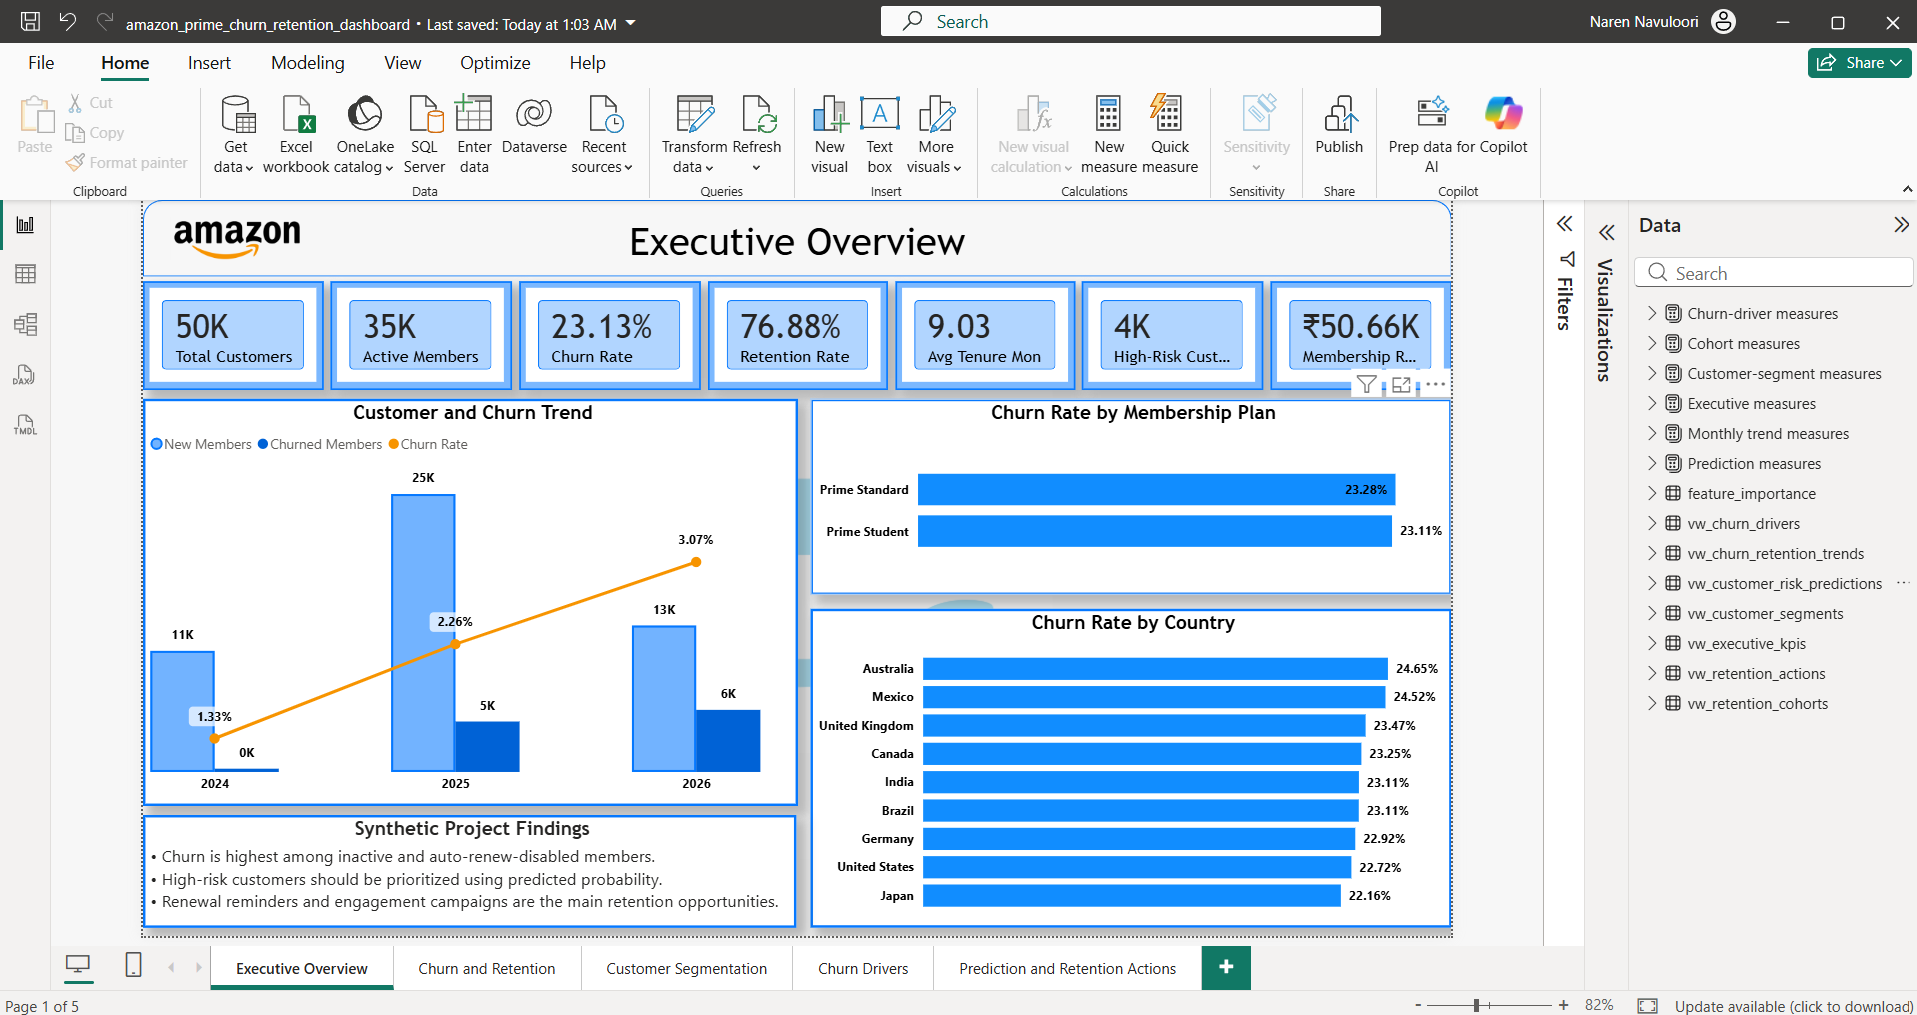

What the dashboard file says about the page in this screenshot:
{"tool":"powerbi","page":{"name":"Executive Overview","canvas":[1280,720],"ordinal":0},"visuals":[{"type":"shape","box":[0,0,1280.2,74.9],"z":0},{"type":"image","box":[11,17.1,160.2,41.6],"z":1000},{"type":"cardVisual","fields":{"Data":["Executive measures.Total Customers"]},"box":[0,79.5,177,106.4],"z":2000},{"type":"cardVisual","fields":{"Data":["Executive measures.Active Members"]},"box":[184,79.5,177.3,106.4],"z":3000},{"type":"cardVisual","fields":{"Data":["Executive measures.Churn Rate"]},"box":[368.3,79.5,177.3,106.4],"z":4000},{"type":"cardVisual","fields":{"Data":["Executive measures.Retention Rate"]},"box":[552.6,79.5,176.1,106.4],"z":5000},{"type":"cardVisual","fields":{"Data":["Executive measures.Average Tenure Months"]},"box":[735.6,79.5,176.1,106.4],"z":6000},{"type":"cardVisual","fields":{"Data":["Executive measures.High-Risk Customers"]},"box":[918.7,79.5,177.3,106.4],"z":7000},{"type":"cardVisual","fields":{"Data":["Executive measures.Membership Revenue at Risk"]},"box":[1102.7,79.5,177.3,106.4],"z":8000},{"type":"lineClusteredColumnComboChart","title":"Customer and Churn Trend","fields":{"Category":["vw_churn_retention_trends.month_start.Variation.Date Hierarchy.Year","vw_churn_retention_trends.month_start.Variation.Date Hierarchy.Quarter","vw_churn_retention_trends.month_start.Variation.Date Hierarchy.Month","vw_churn_retention_trends.month_start.Variation.Date Hierarchy.Day"],"Y":["Monthly trend measures.New Members","Monthly trend measures.Monthly Churned Members"],"Y2":["Monthly trend measures.Monthly Churn Rate"]},"box":[0,194.4,640.8,398.6],"z":9000},{"type":"clusteredBarChart","title":"Churn Rate by Membership Plan","fields":{"Category":["vw_customer_segments.plan_type"],"Y":["Customer-segment measures.Segment Churn Rate"]},"box":[653,194.4,627.3,192],"z":10000},{"type":"clusteredBarChart","title":"Churn Rate by Country","fields":{"Category":["vw_customer_segments.country"],"Y":["Customer-segment measures.Segment Churn Rate"]},"box":[653,399.9,627.3,311.8],"z":11000},{"type":"textbox","title":"Synthetic Project Findings","box":[0,601.6,639.5,110.1],"z":12000}]}

Visuals, with their boxes on the page's 1280x720 design canvas (x1, y1, x2, y2). These are canvas units, not pixel positions in the 1917x1015 screenshot, which may show the page scaled, cropped or inside an application window:
shape: <region>0, 0, 1280, 75</region>
image: <region>11, 17, 171, 59</region>
cardVisual - Executive measures.Total Customers: <region>0, 80, 177, 186</region>
cardVisual - Executive measures.Active Members: <region>184, 80, 361, 186</region>
cardVisual - Executive measures.Churn Rate: <region>368, 80, 546, 186</region>
cardVisual - Executive measures.Retention Rate: <region>553, 80, 729, 186</region>
cardVisual - Executive measures.Average Tenure Months: <region>736, 80, 912, 186</region>
cardVisual - Executive measures.High-Risk Customers: <region>919, 80, 1096, 186</region>
cardVisual - Executive measures.Membership Revenue at Risk: <region>1103, 80, 1280, 186</region>
"Customer and Churn Trend" lineClusteredColumnComboChart: <region>0, 194, 641, 593</region>
"Churn Rate by Membership Plan" clusteredBarChart: <region>653, 194, 1280, 386</region>
"Churn Rate by Country" clusteredBarChart: <region>653, 400, 1280, 712</region>
"Synthetic Project Findings" textbox: <region>0, 602, 640, 712</region>
